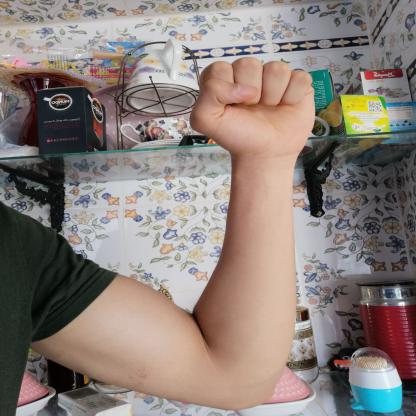SAD: (174, 42, 329, 170)
